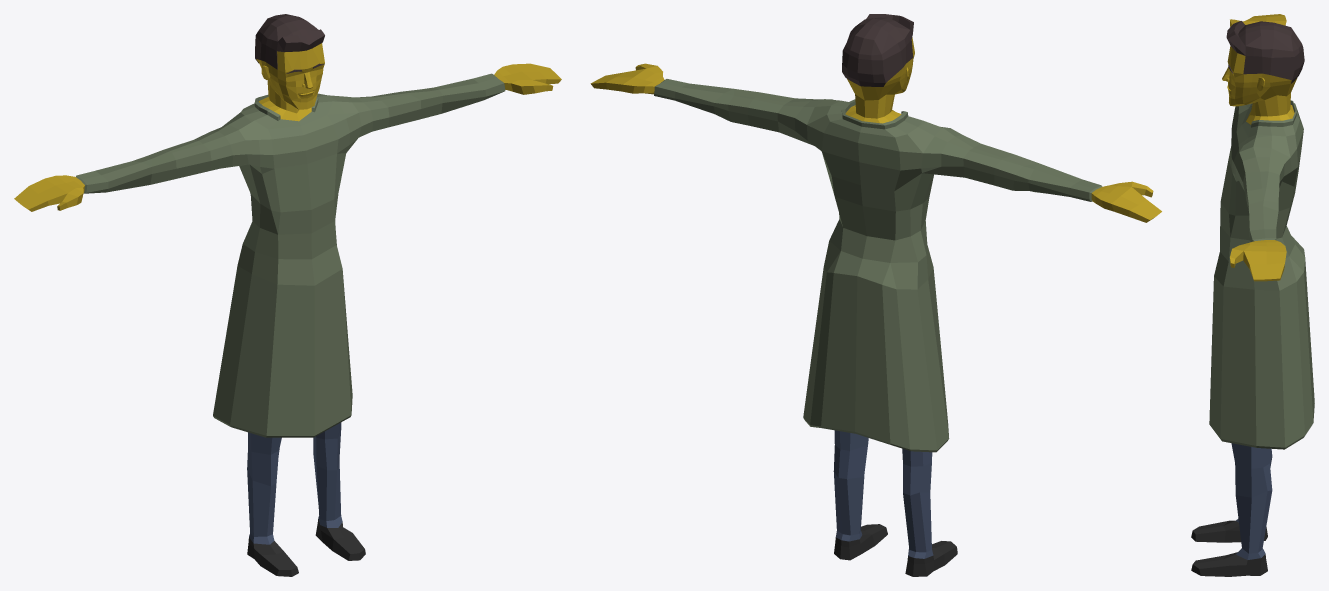
The model's file is Running.gltf.
The picture shows the model from 3 angles, left to right: view 1: azimuth 30°, elevation 25°; view 2: azimuth 150°, elevation 25°; view 3: azimuth 270°, elevation 25°; orthographic projection. The views are drawn at different scales.
Visible parts, largest first — view 1: BaseHuman; view 2: BaseHuman; view 3: BaseHuman.
Part boxes in pixels (box(x1,y1,x2,y2)): BaseHuman: box(14, 14, 561, 576); BaseHuman: box(590, 14, 1161, 576); BaseHuman: box(1191, 14, 1314, 576).
Bounding box in the file's own units: 520 × 484 × 103.
